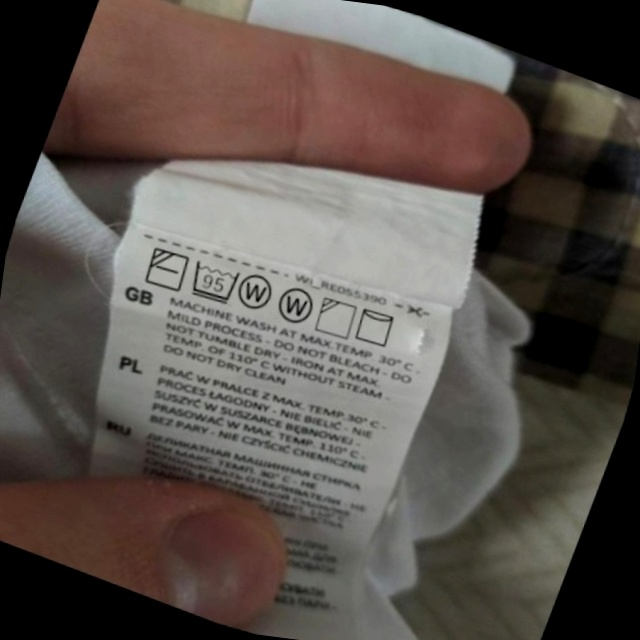95C: (181, 251, 248, 312)
dry_flat_in_shade: (137, 238, 196, 299)
line_dry: (347, 299, 404, 355)
shade_dry: (308, 289, 365, 347)
wet_clean: (230, 263, 284, 320), (269, 278, 323, 334)
